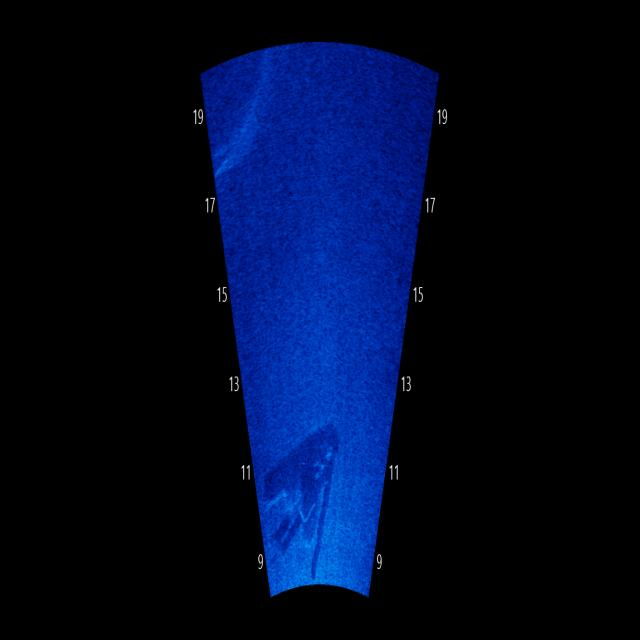triangle: (270, 374, 347, 571)
